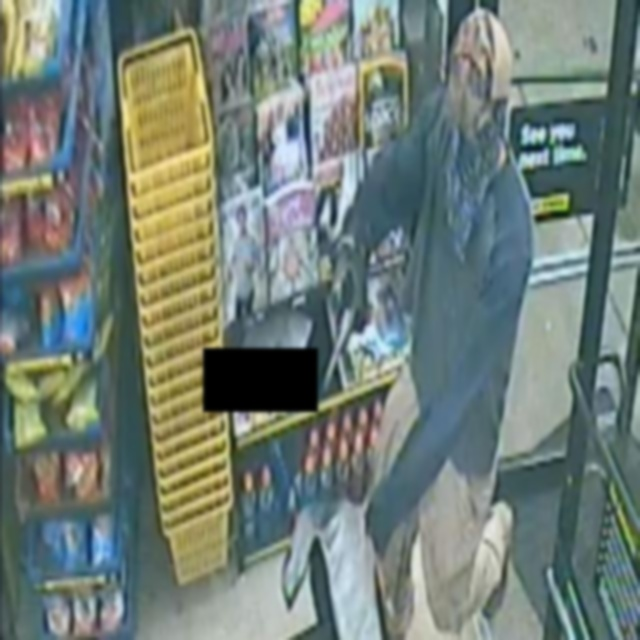gun: (309, 279, 369, 396)
